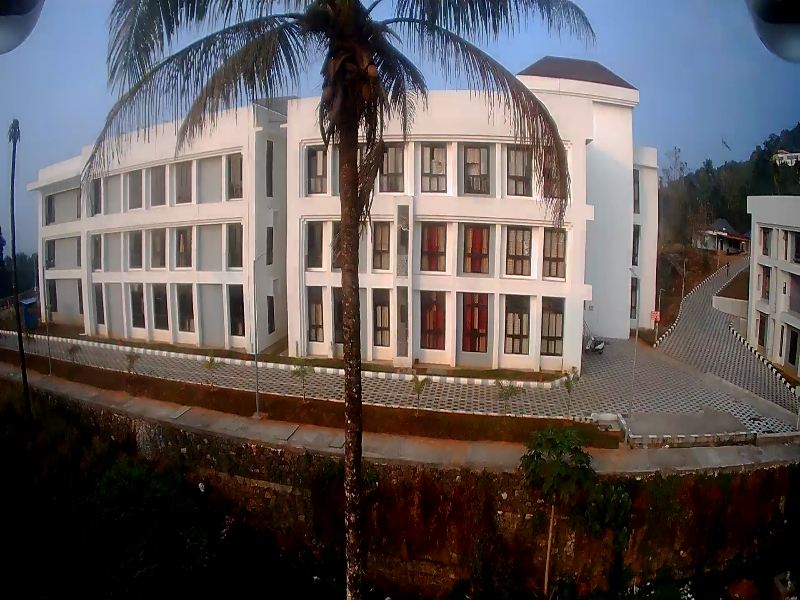coconut: (317, 86, 336, 102), (365, 63, 376, 75)
